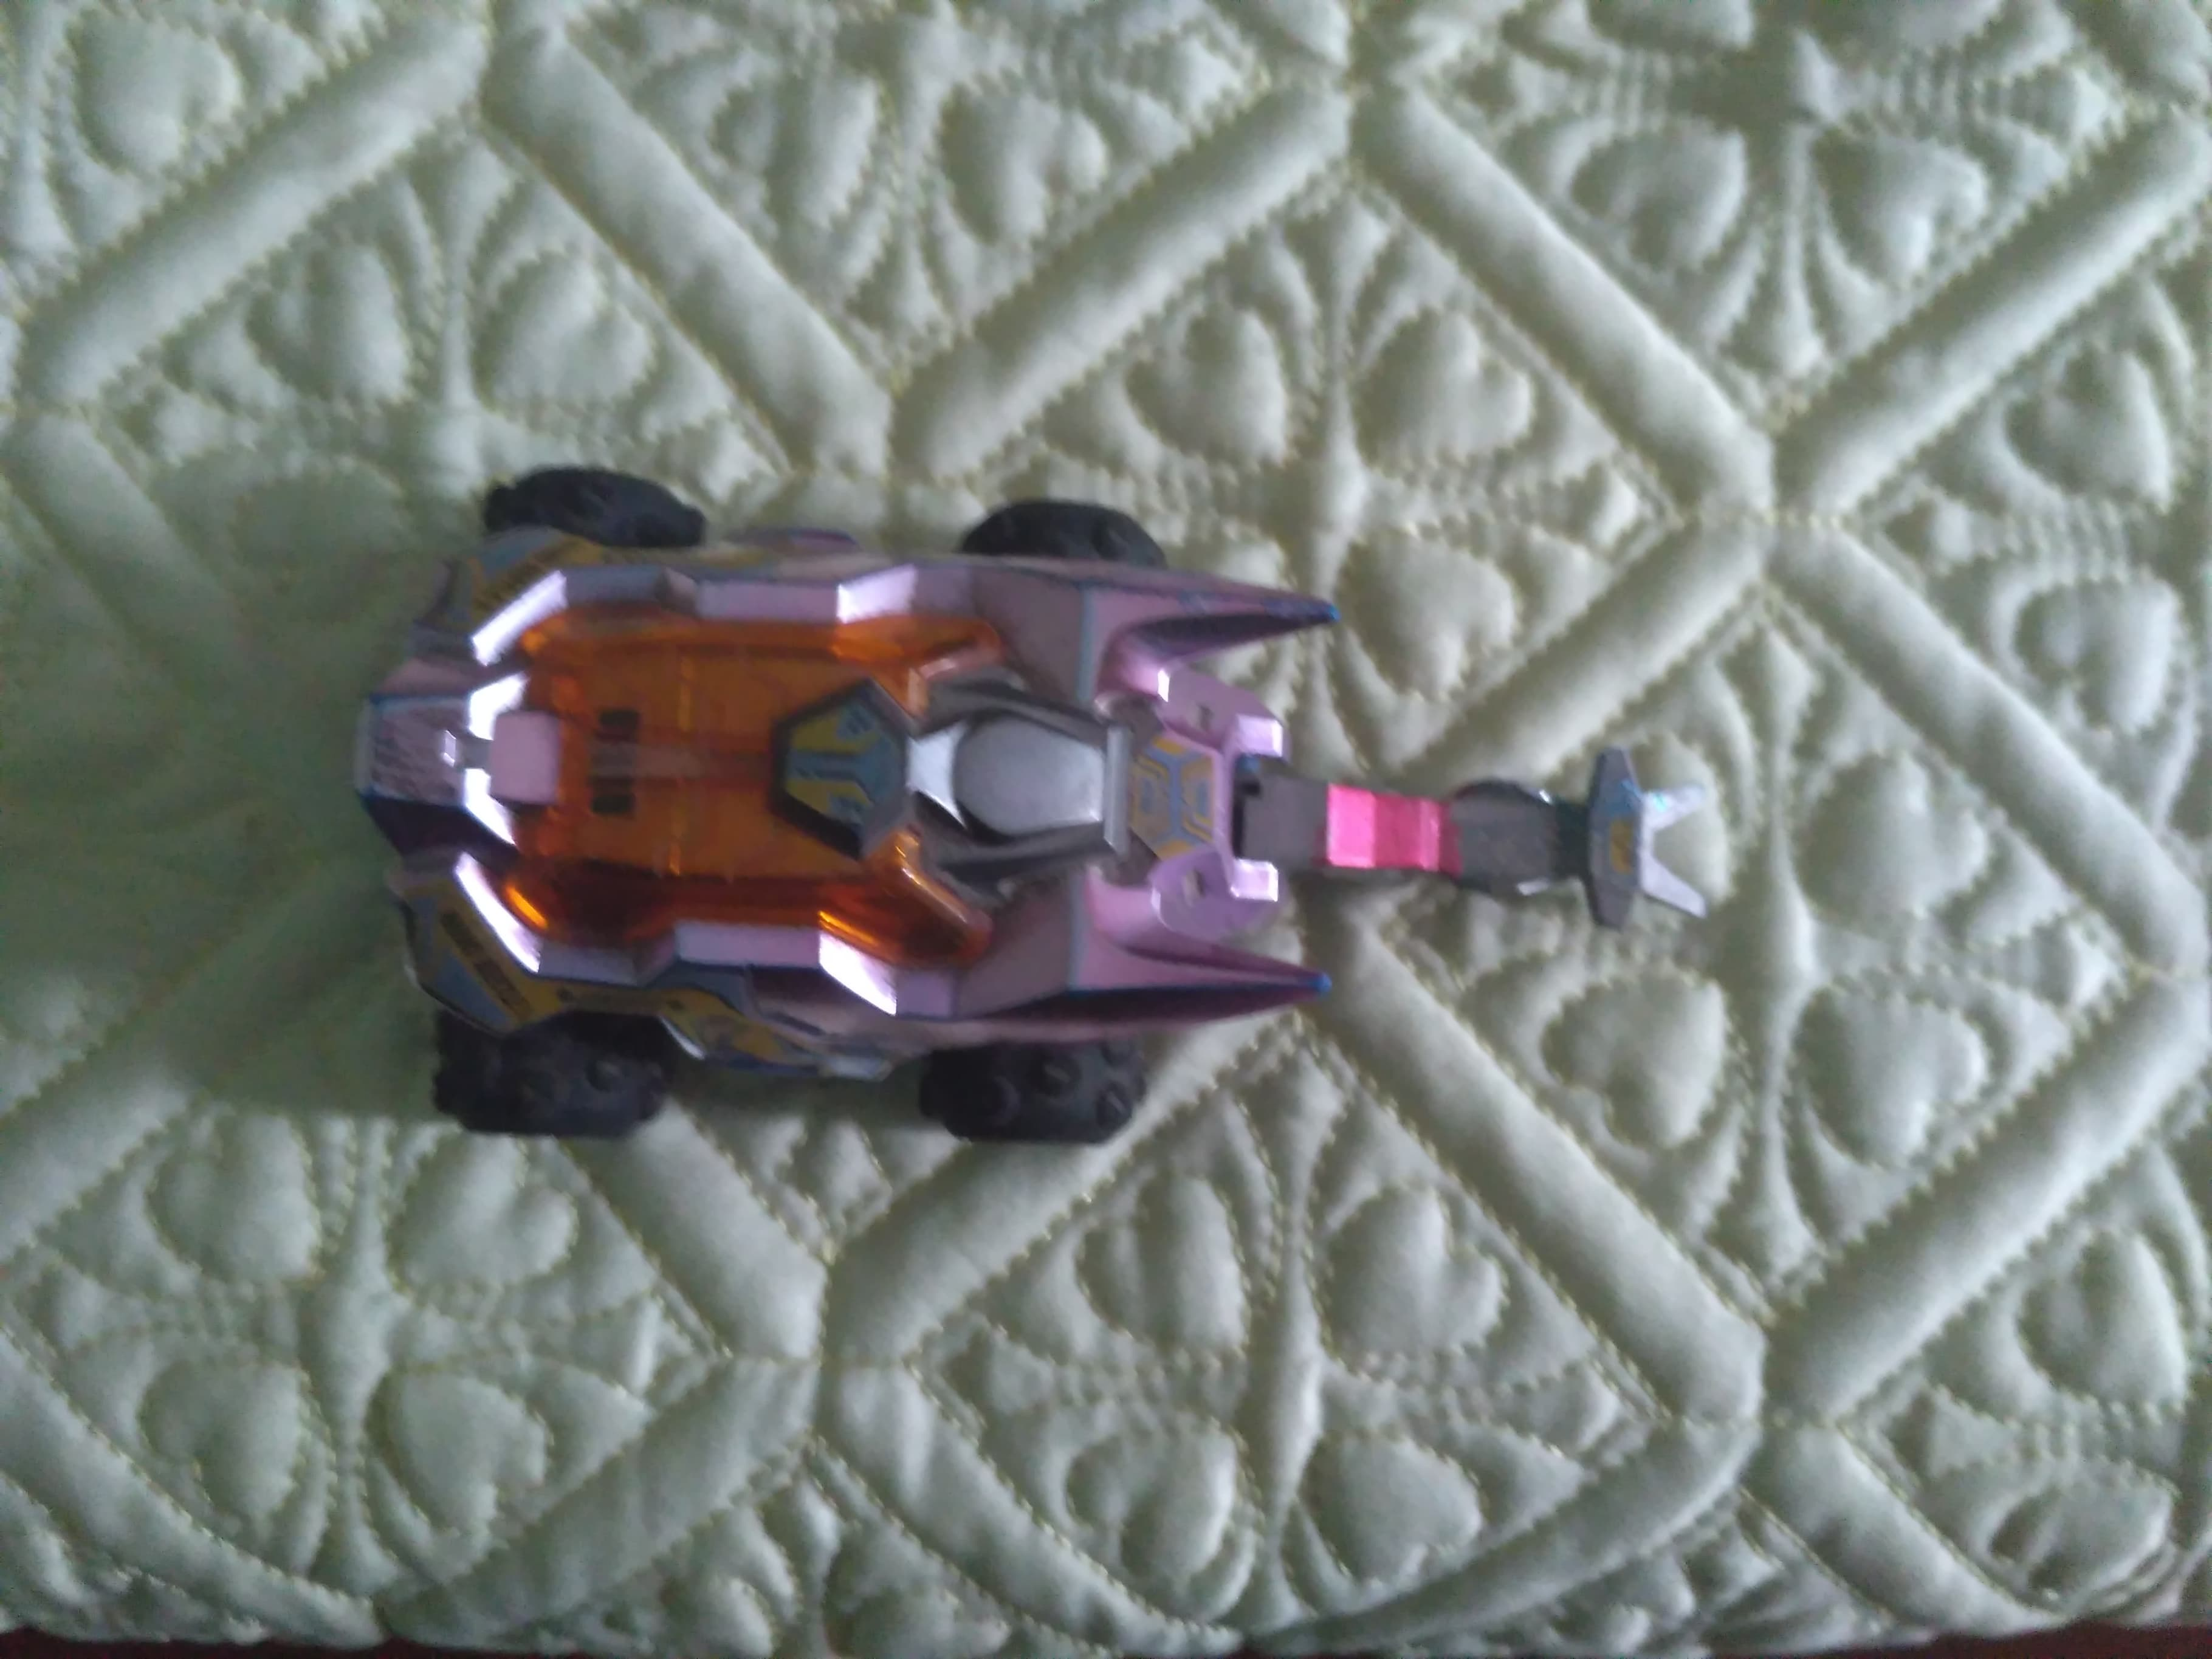rhino: (338, 458, 1651, 1148)
